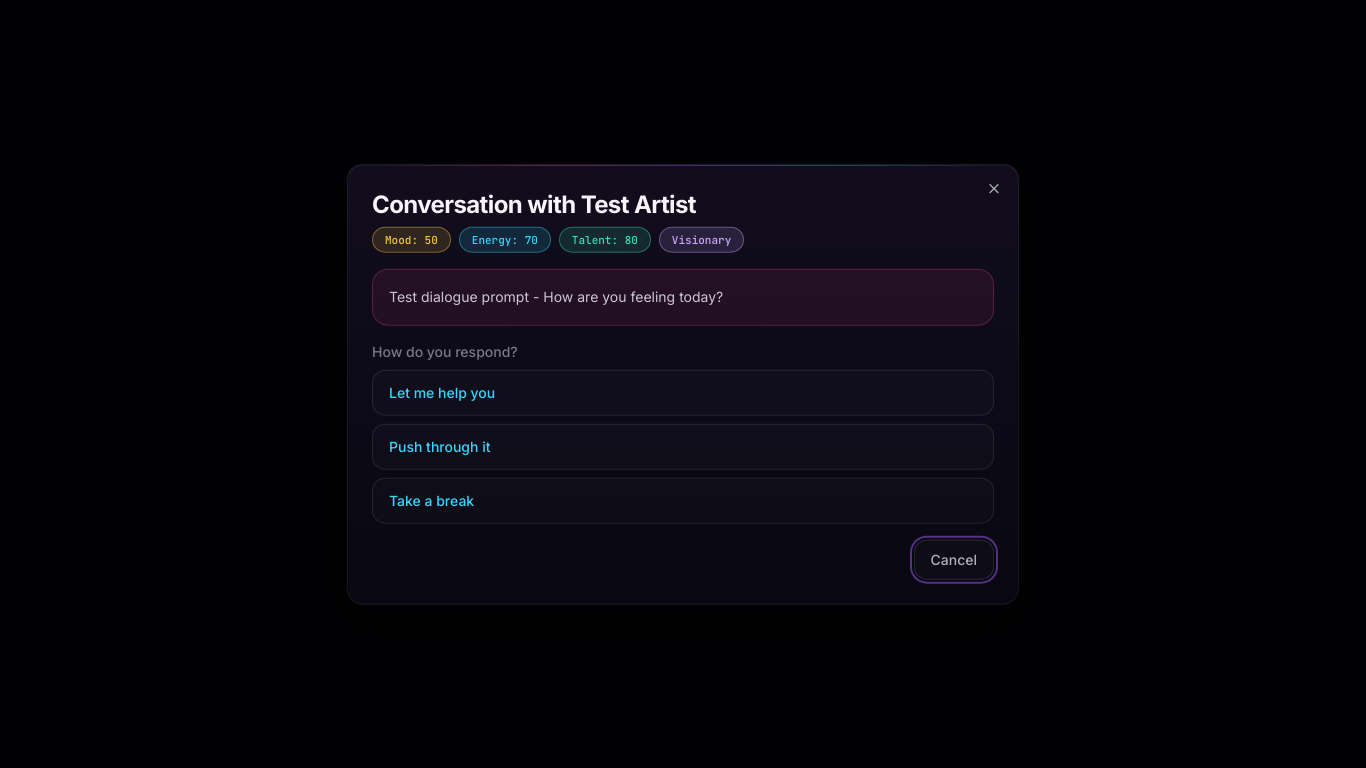
Test: ArtistDialogueModal › Submitting State › should show loader when submitting
Expected: the text "Let me help you" is shown, x1=389 y1=382 x2=495 y2=402
Click the button "Let me help you" at (442, 392), box x1=372 y1=369 x2=994 y2=415
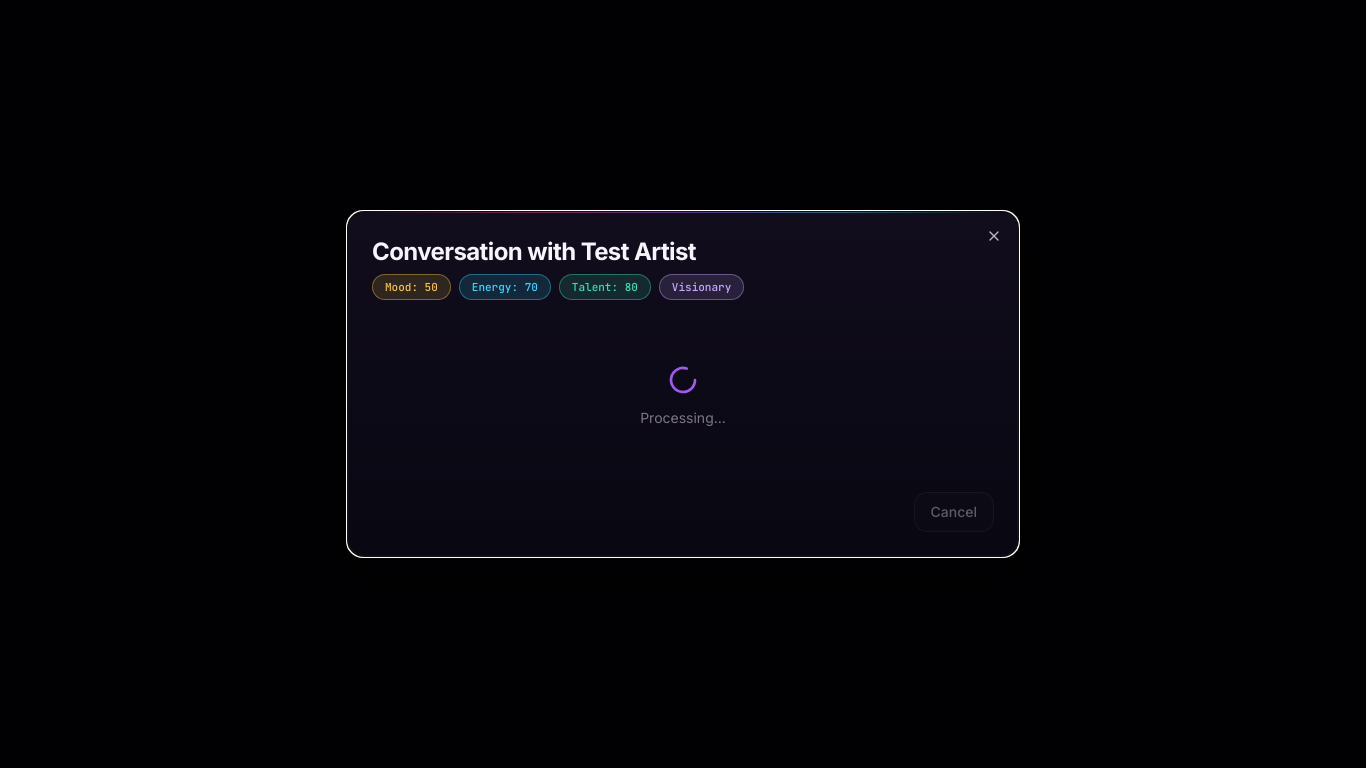
Expected: the text "Processing..." is shown, x1=640 y1=408 x2=726 y2=428
